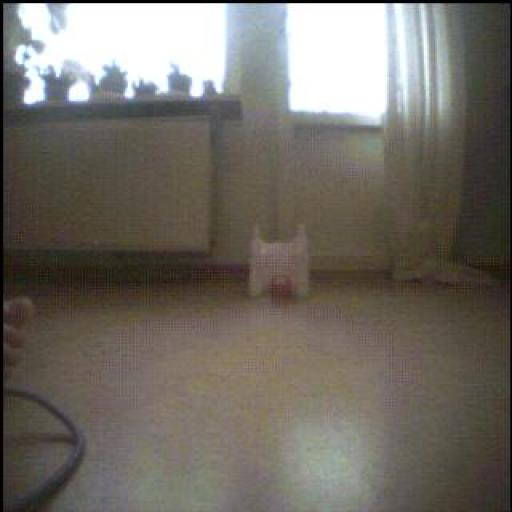Basket: (272, 278, 296, 300)
